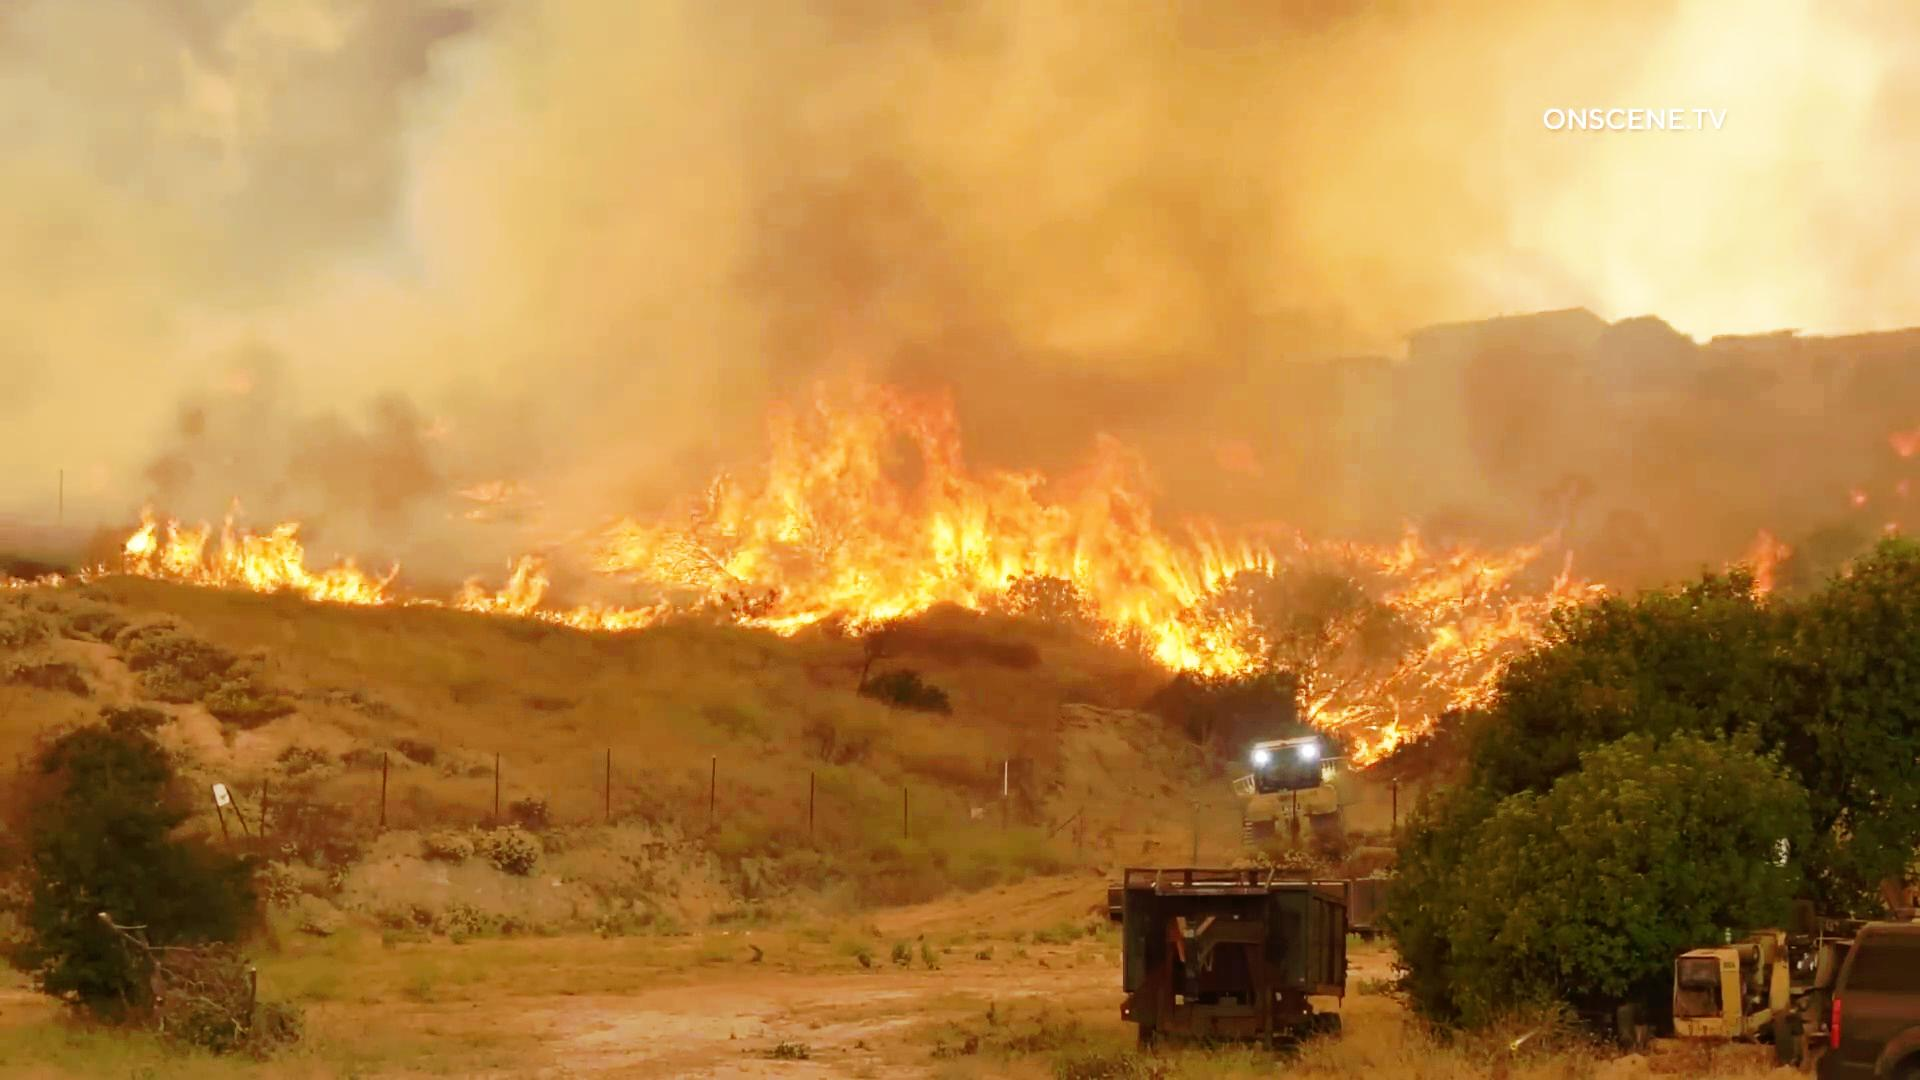fire: (603, 353, 971, 612), (1321, 533, 1607, 742), (1113, 513, 1341, 691), (967, 446, 1175, 633), (95, 473, 319, 618), (425, 543, 563, 621)
smoke: (956, 293, 1358, 452), (764, 11, 938, 367), (166, 371, 429, 513)
